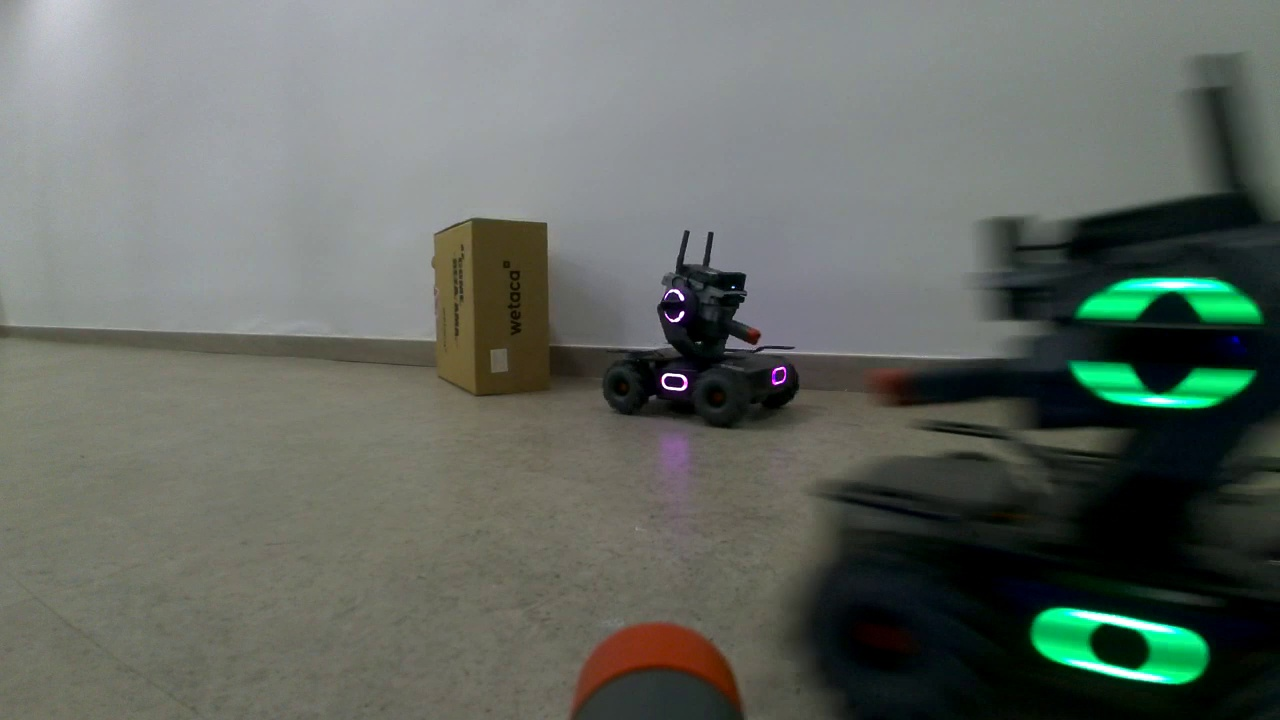robot: (804, 183, 1280, 717), (601, 264, 802, 430)
